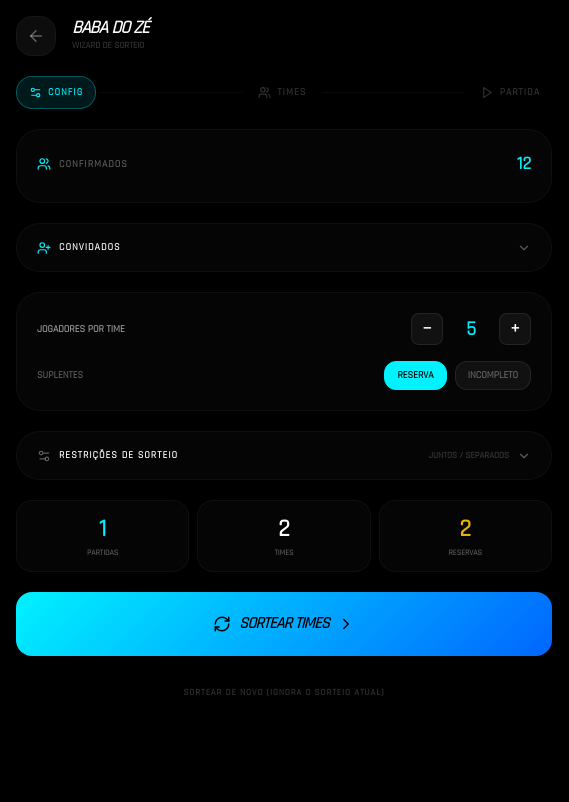
it: DrawPage — fluxo de sorteio › step 2 exibe total de jogadores nos times (2 times de 6: 5 + reserva do time)
Click the button "Sortear Times" at x=284, y=624, box [16, 592, 552, 656]
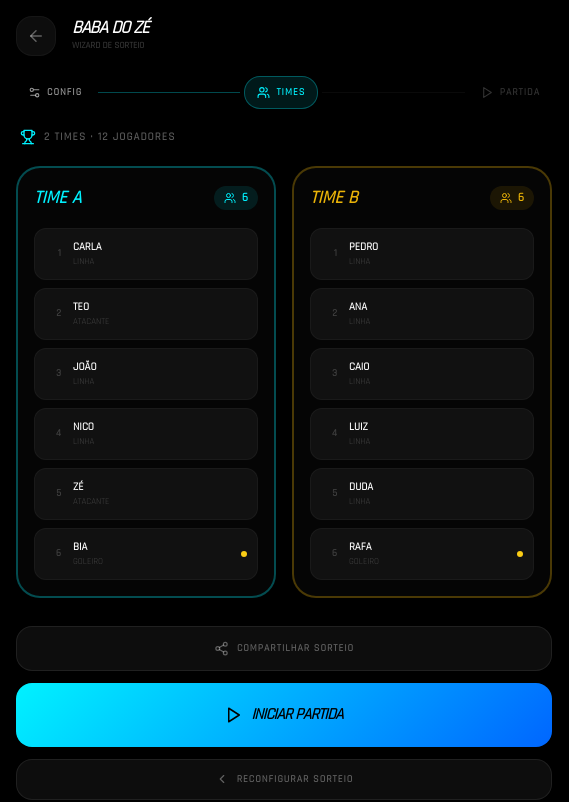
Check: the text "2 times · 12 jogadores" is shown, box [44, 129, 176, 146]
